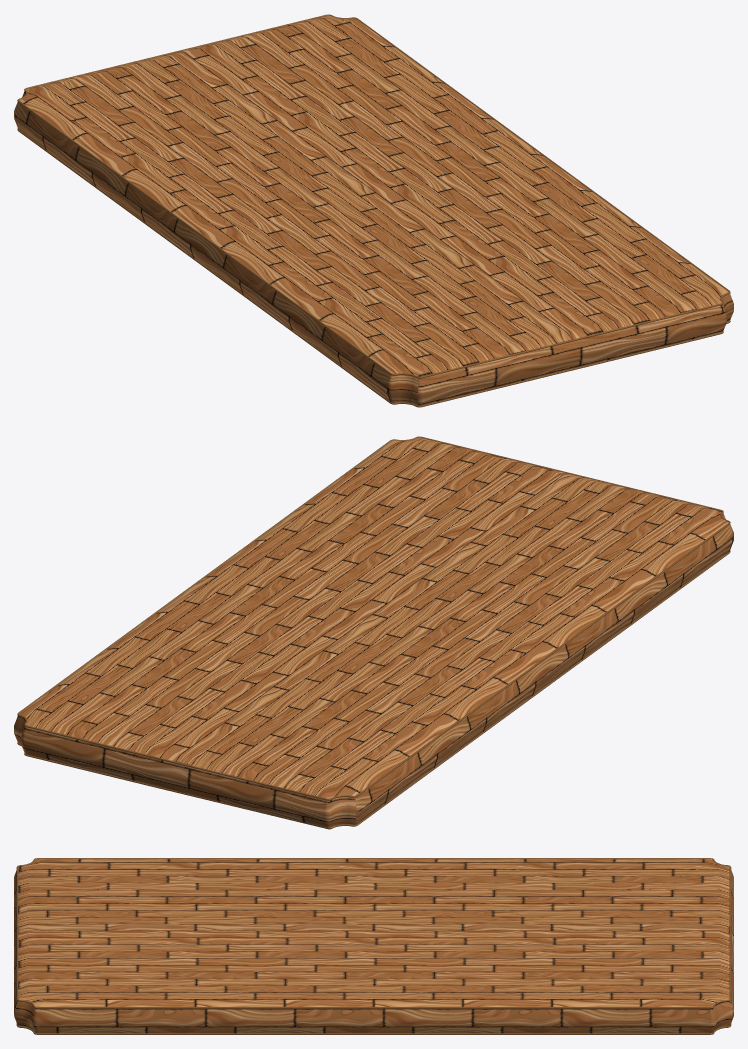
Rendered from SM_FoamFloor_2x4.fbx.
3 renders of one model, top to bottom at view 1: azimuth 30°, elevation 25°; view 2: azimuth 150°, elevation 25°; view 3: azimuth 270°, elevation 25°, orthographic. The views are drawn at different scales.
Parts seen in each view (by area): view 1: SM_SoftFoam_Floor_20cm_2x4; view 2: SM_SoftFoam_Floor_20cm_2x4; view 3: SM_SoftFoam_Floor_20cm_2x4.
Part boxes in pixels (left/top/right/bottom): SM_SoftFoam_Floor_20cm_2x4: left=14, top=14, right=733, bottom=407; SM_SoftFoam_Floor_20cm_2x4: left=14, top=436, right=733, bottom=829; SM_SoftFoam_Floor_20cm_2x4: left=14, top=858, right=733, bottom=1034.
Size of the model in its own units: 200 by 20 by 400.
